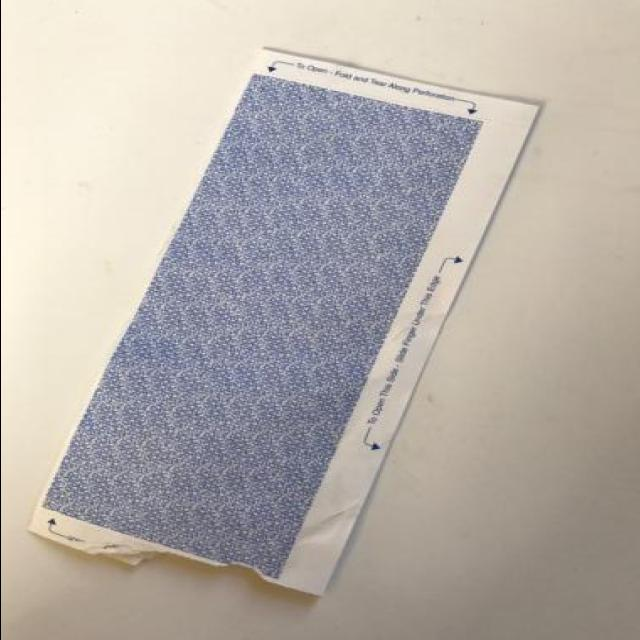kertas: (20, 49, 549, 601)
